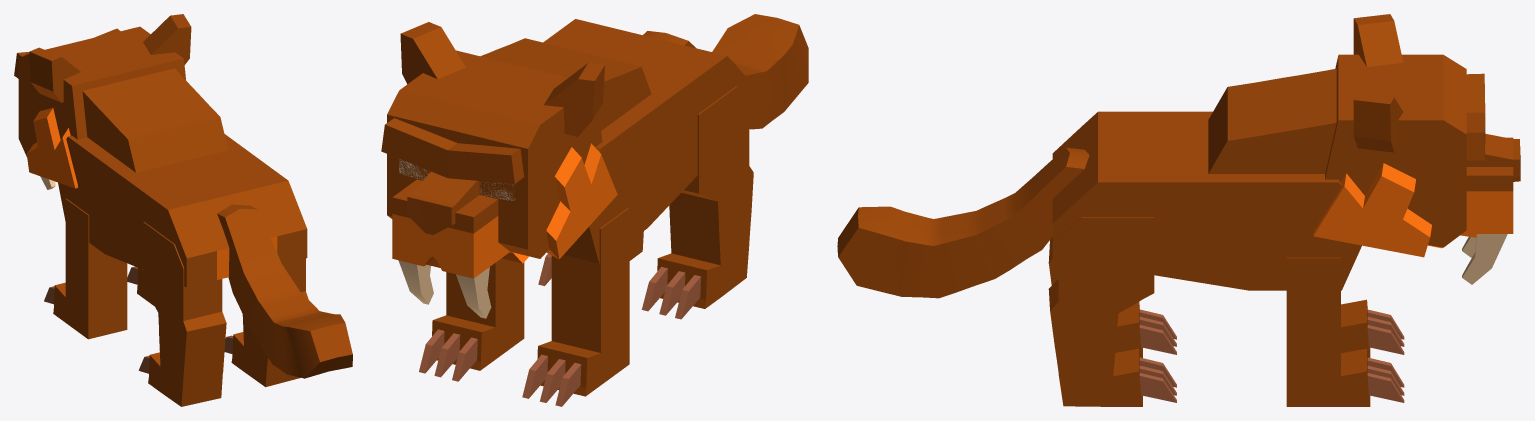
Rendered from sabertooth_tiger.obj.
The picture shows the model from 3 angles, left to right: view 1: azimuth 30°, elevation 25°; view 2: azimuth 150°, elevation 25°; view 3: azimuth 270°, elevation 25°; orthographic projection. The views are drawn at different scales.
Visible parts, largest first — view 1: Head, Torso, Tail, BackLeftLeg, FrontLeftLeg, BackRightLeg, FrontRightLeg; view 2: Head, Torso, BackLeftLeg, FrontLeftLeg, FrontRightLeg, Tail, BackRightLeg; view 3: Head, Torso, Tail, BackRightLeg, FrontRightLeg, FrontLeftLeg, BackLeftLeg.
Part boxes in pixels (<box>): Head: <box>14,14,228,189</box>; Torso: <box>58,134,307,287</box>; Tail: <box>217,204,352,378</box>; BackLeftLeg: <box>138,222,226,406</box>; FrontLeftLeg: <box>44,198,127,339</box>; BackRightLeg: <box>224,258,308,387</box>; FrontRightLeg: <box>127,266,154,306</box>; Head: <box>381,22,651,318</box>; Torso: <box>543,19,750,263</box>; BackLeftLeg: <box>641,86,753,319</box>; FrontLeftLeg: <box>522,207,629,406</box>; FrontRightLeg: <box>419,258,524,381</box>; Tail: <box>643,14,808,129</box>; BackRightLeg: <box>538,231,643,285</box>; Head: <box>1208,14,1520,284</box>; Torso: <box>1052,111,1361,290</box>; Tail: <box>837,147,1089,298</box>; BackRightLeg: <box>1048,217,1176,406</box>; FrontRightLeg: <box>1286,257,1404,406</box>; FrontLeftLeg: <box>1341,299,1404,357</box>; BackLeftLeg: <box>1048,237,1176,357</box>.
Bounding box in the file's own units: 3.21 × 5.18 × 10.28.
